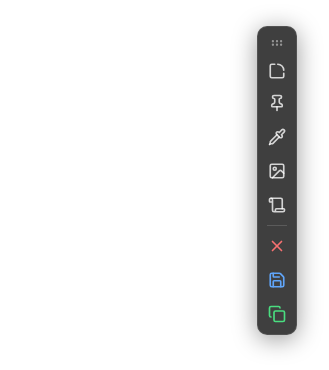
Toolbar › localizes the image adjustment reset button
Click the button named "图像调整" at (277, 171), box [261, 155, 293, 187]
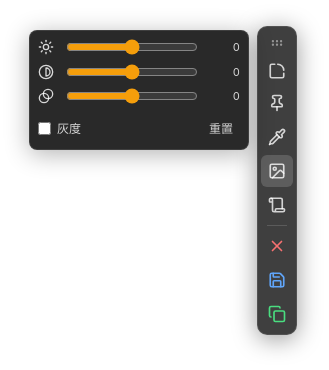
expect the button "重置" is shown: met, box [202, 116, 240, 140]
